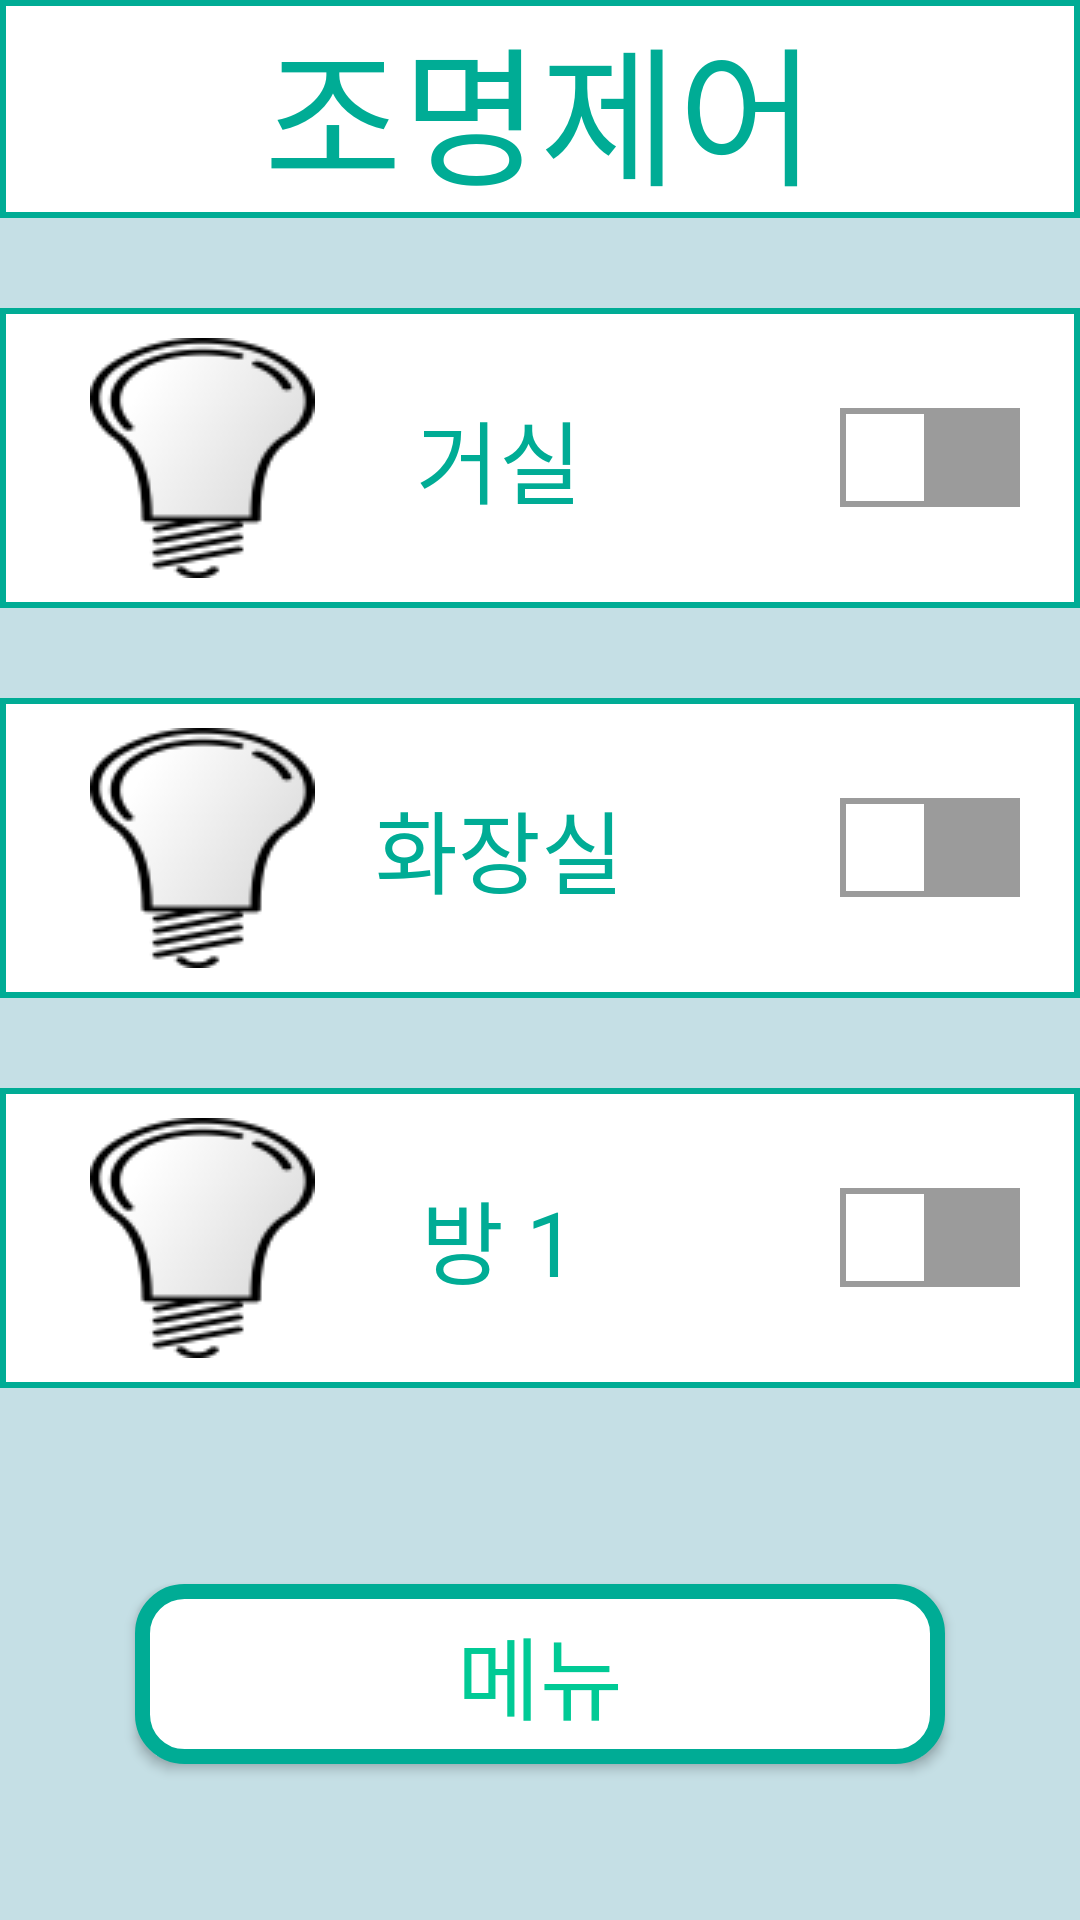

Locate icon controls on the screen. Image size 1080px×1920px, boxes as (x1, y1, x2, y2).
turnoff: (90, 338, 315, 578), (90, 728, 315, 968), (90, 1118, 315, 1358)
